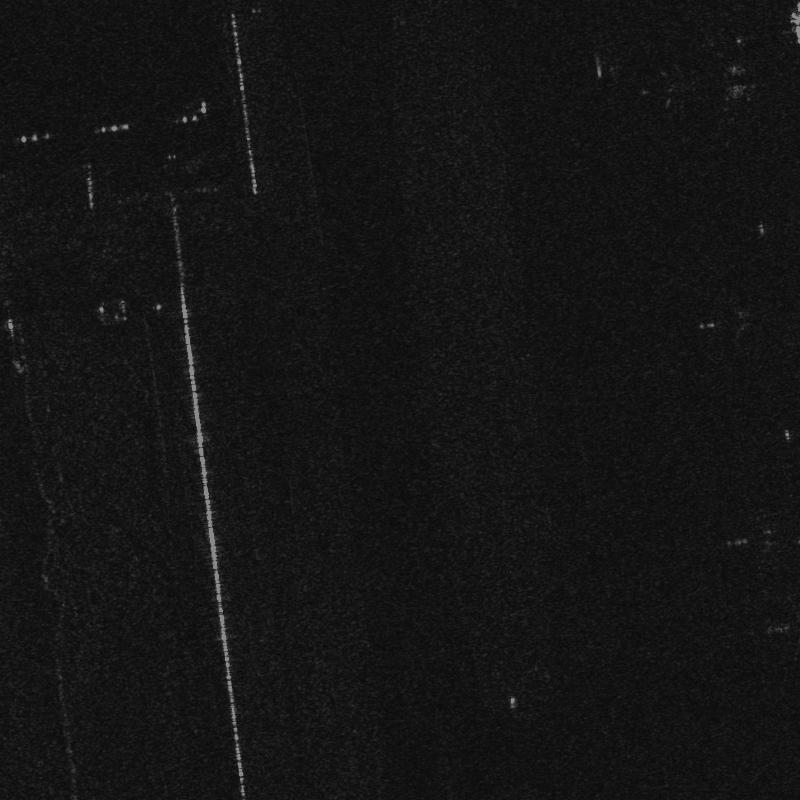Boeing787: (648, 31, 770, 139), (695, 289, 760, 349)
